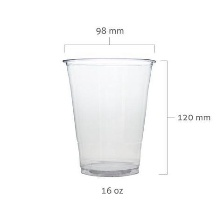glass: (56, 51, 164, 178)
